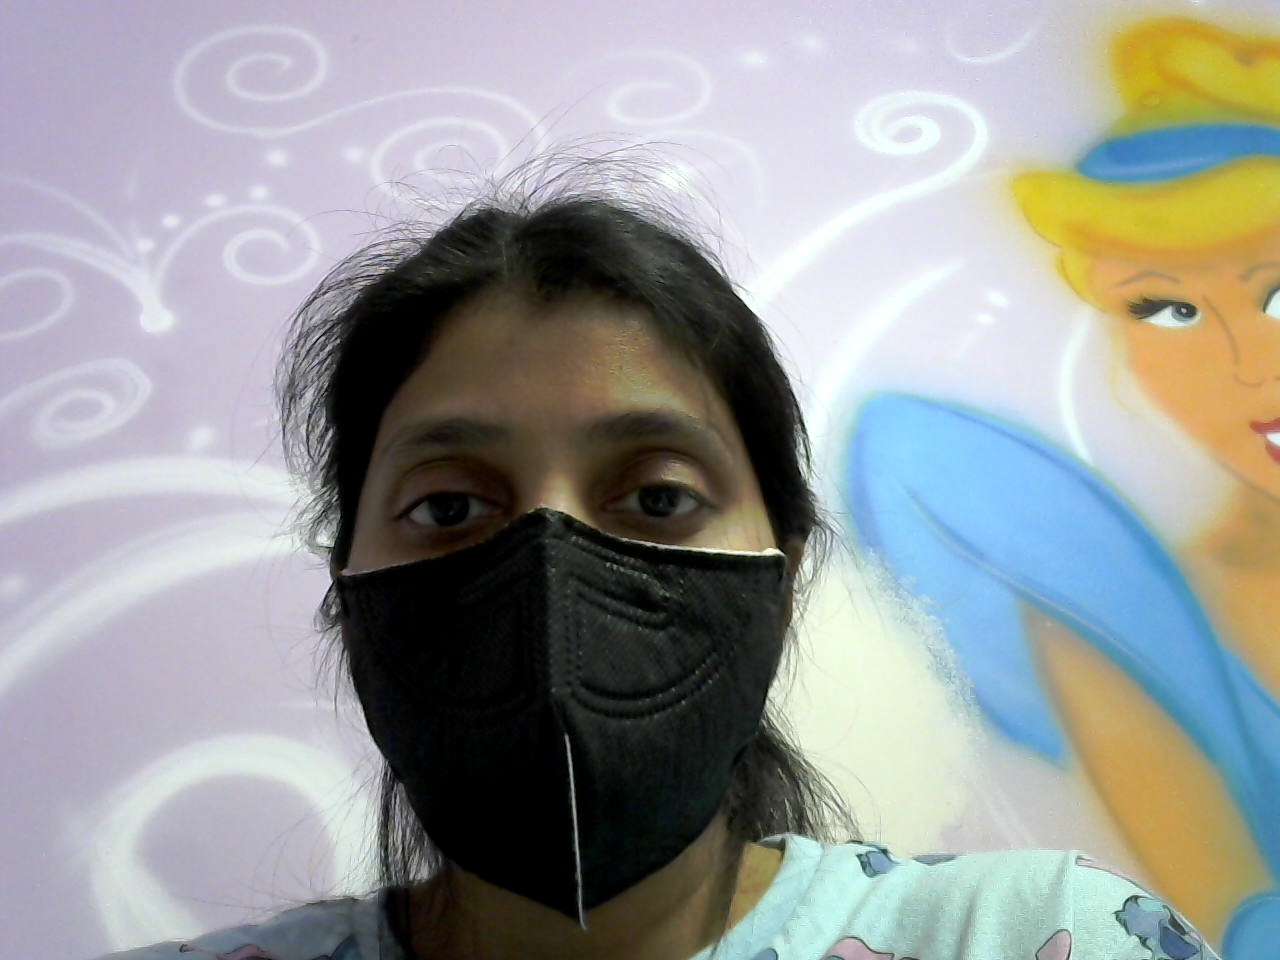mask: (313, 511, 805, 937)
